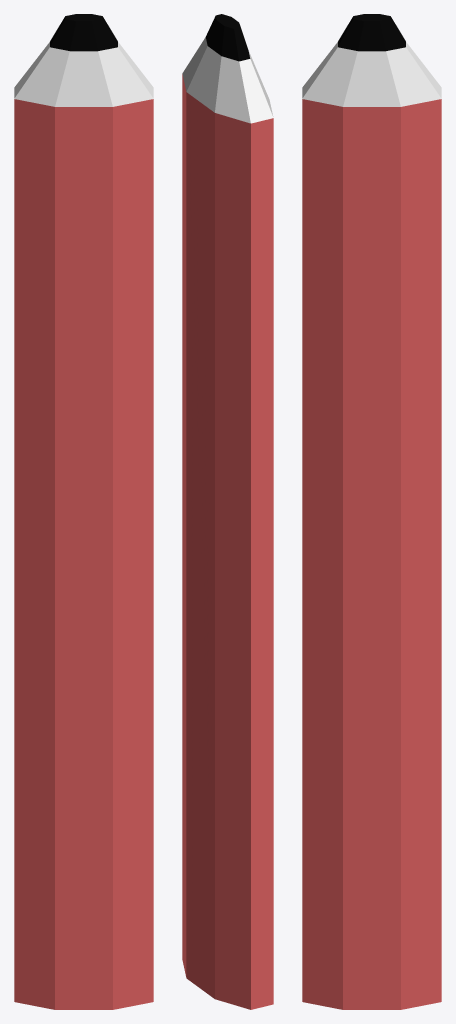
Rendered from pencil02.gltf.
3 renders of one model, left to right at view 1: azimuth 90°, elevation 25°; view 2: azimuth 210°, elevation 25°; view 3: azimuth 270°, elevation 25°, orthographic.
Visible parts, largest first — view 1: Cylinder; view 2: Cylinder; view 3: Cylinder.
Boxes of the visible parts, x1,y1,x2,y2 form: Cylinder: [14, 14, 153, 1009]; Cylinder: [182, 14, 273, 1009]; Cylinder: [302, 14, 441, 1009].
Size of the model in its own units: 0.00656 by 0.11 by 0.0142.
Materials: 1 (1 with a texture image).
